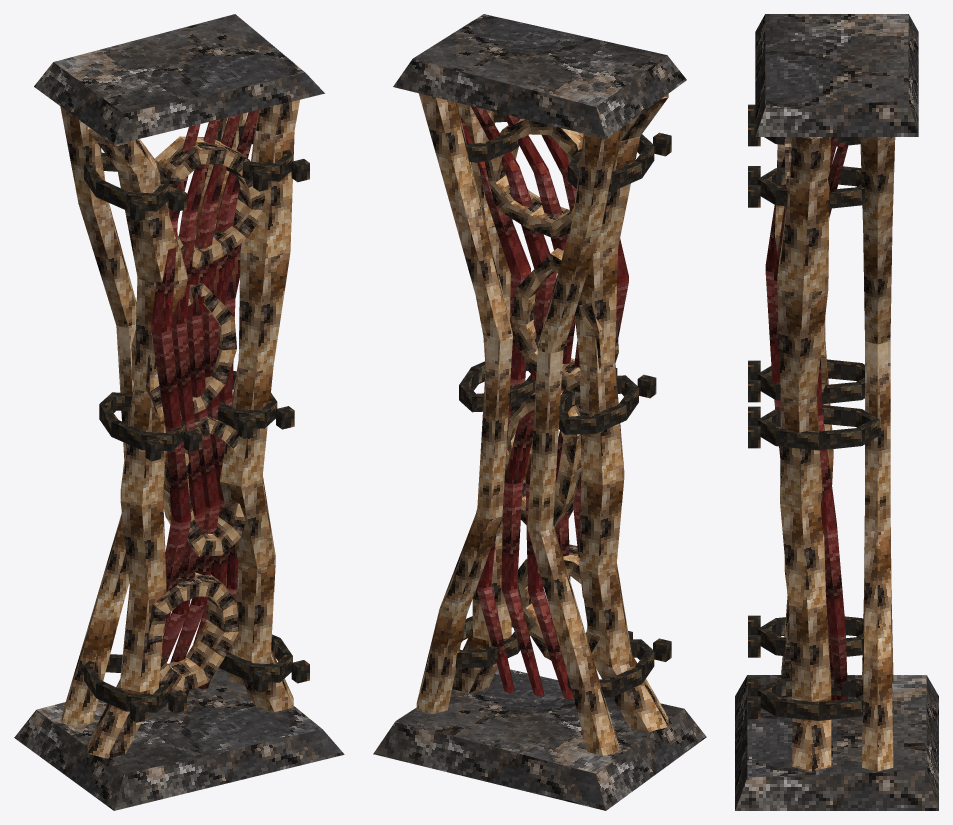
File: ossuary_living_buttress.glb
The picture shows the model from 3 angles, left to right: view 1: azimuth 30°, elevation 25°; view 2: azimuth 150°, elevation 25°; view 3: azimuth 270°, elevation 25°; orthographic projection.
Visible parts, largest first — view 1: buttress_bone, buttress_charcoal, buttress_muscle, buttress_bronze; view 2: buttress_bone, buttress_charcoal, buttress_muscle, buttress_bronze; view 3: buttress_bone, buttress_charcoal, buttress_bronze, buttress_muscle.
Boxes of the visible parts, x1,y1,x2,y2 form: buttress_bone: [60, 100, 299, 758]; buttress_charcoal: [14, 14, 344, 810]; buttress_muscle: [151, 110, 258, 706]; buttress_bronze: [84, 123, 309, 722]; buttress_bone: [416, 93, 668, 755]; buttress_charcoal: [373, 14, 706, 810]; buttress_muscle: [460, 106, 628, 699]; buttress_bronze: [455, 111, 671, 697]; buttress_bone: [775, 137, 895, 771]; buttress_charcoal: [735, 14, 938, 810]; buttress_bronze: [748, 104, 879, 720]; buttress_muscle: [765, 137, 848, 700].
Bounding box in the file's own units: 1.2 × 3.4 × 0.9.
4 materials, 4 textured.
